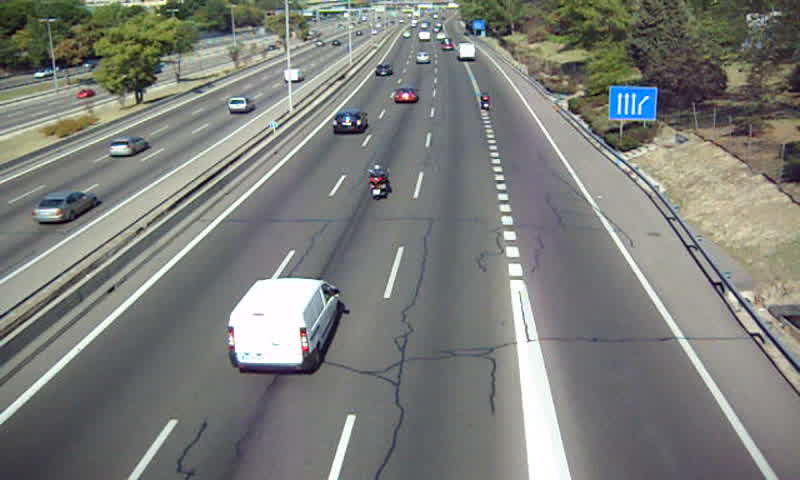car: (331, 110, 368, 133), (393, 87, 418, 103), (374, 63, 393, 76), (414, 51, 430, 65)
motorcycle: (366, 164, 389, 202), (480, 90, 490, 112)
van: (227, 278, 342, 374), (458, 42, 476, 61)
